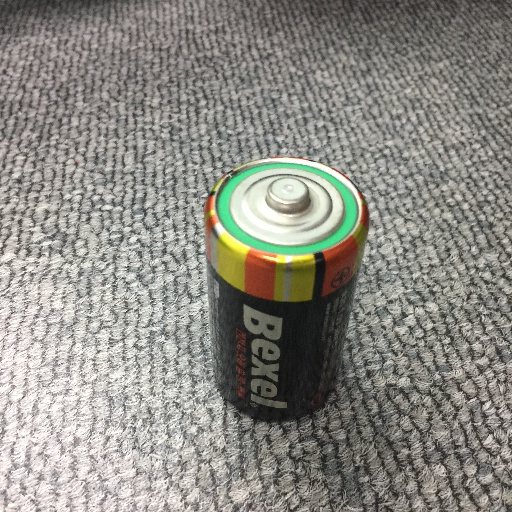Battery_0: (195, 137, 373, 432)
